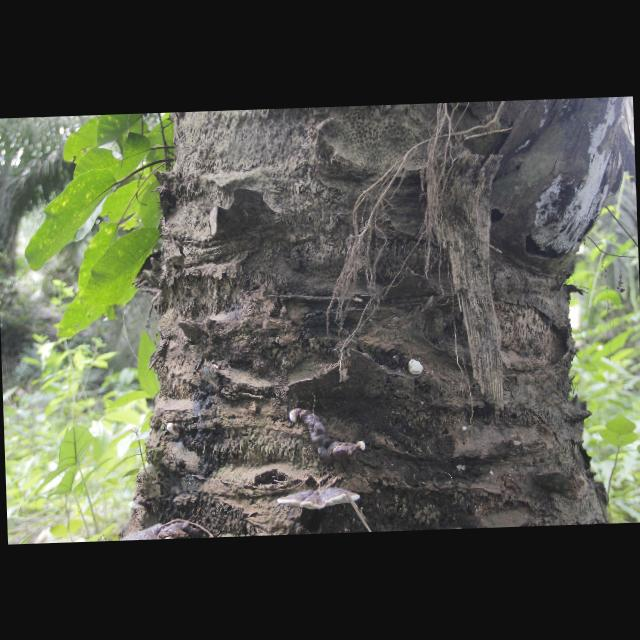ganoderma: (302, 407, 358, 466), (277, 486, 362, 513), (121, 522, 201, 542), (130, 498, 152, 513)
primordium: (407, 359, 424, 376), (167, 422, 182, 437), (289, 409, 303, 424), (357, 441, 366, 453), (463, 426, 468, 432)
